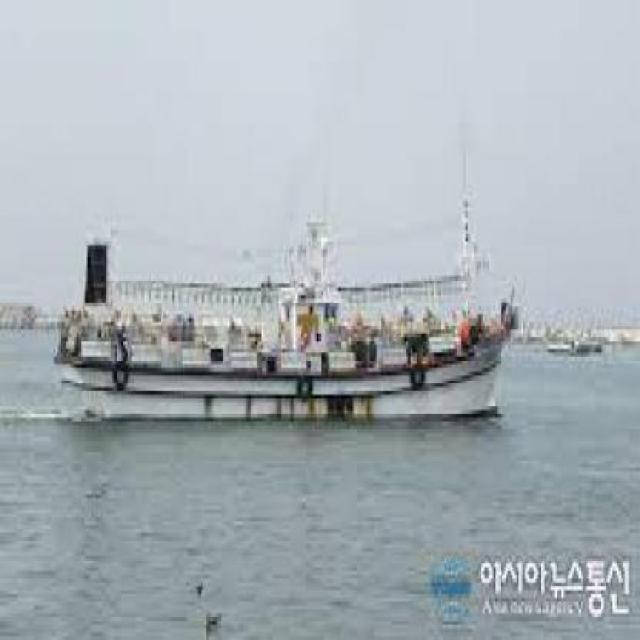fish-b: (46, 207, 529, 438)
